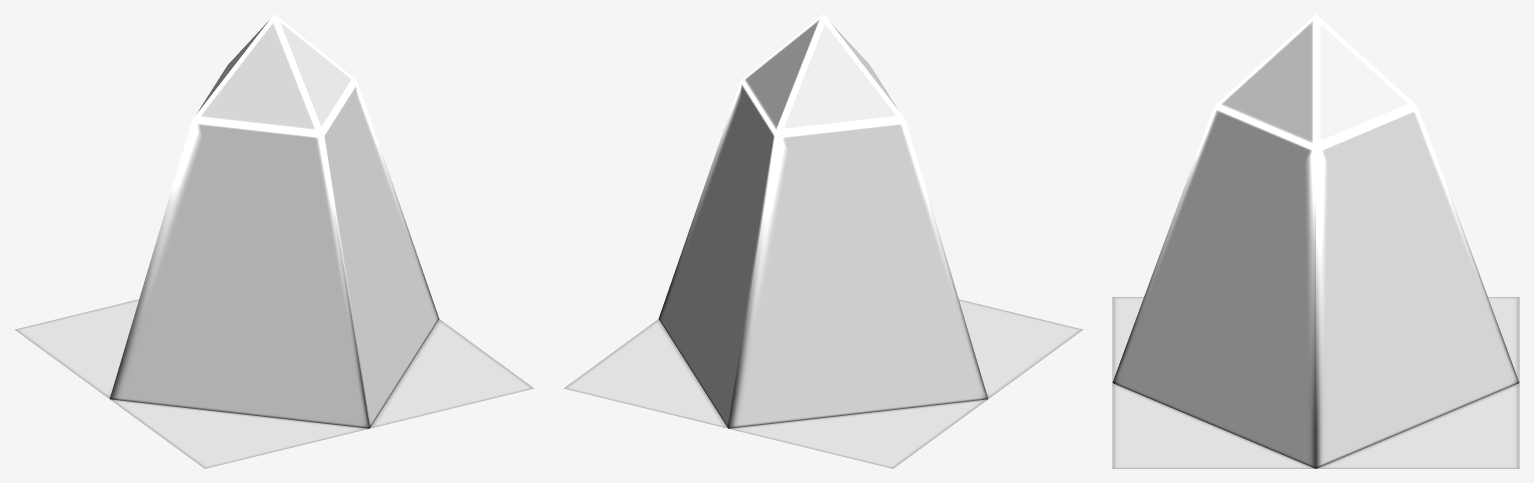
File: obelisk_1-high_normal.fbx
The picture shows the model from 3 angles, left to right: view 1: azimuth 30°, elevation 25°; view 2: azimuth 150°, elevation 25°; view 3: azimuth 270°, elevation 25°; orthographic projection. The views are drawn at different scales.
Parts seen in each view (by area): view 1: obelisk_1-high_normal; view 2: obelisk_1-high_normal; view 3: obelisk_1-high_normal.
Part boxes in pixels (x1=…): obelisk_1-high_normal: x1=15, y1=14, x2=534, y2=468; obelisk_1-high_normal: x1=563, y1=14, x2=1082, y2=468; obelisk_1-high_normal: x1=1112, y1=14, x2=1519, y2=468.
Bounding box in the file's own units: 100 × 100 × 100.
